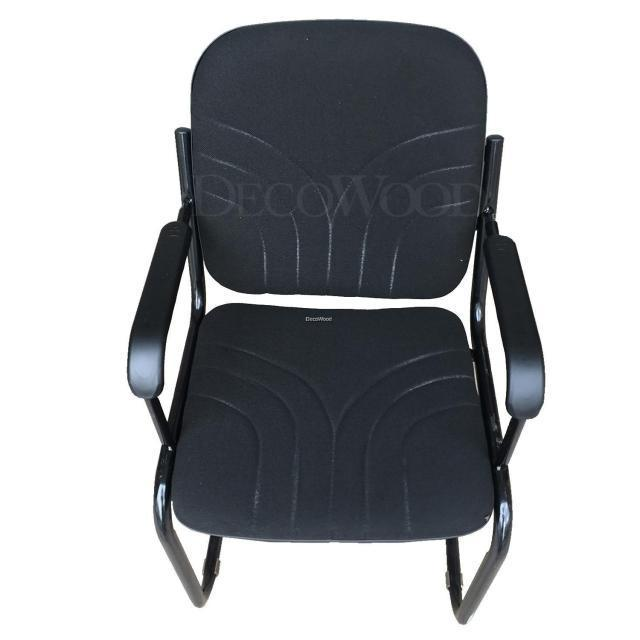chair: (122, 16, 551, 630)
